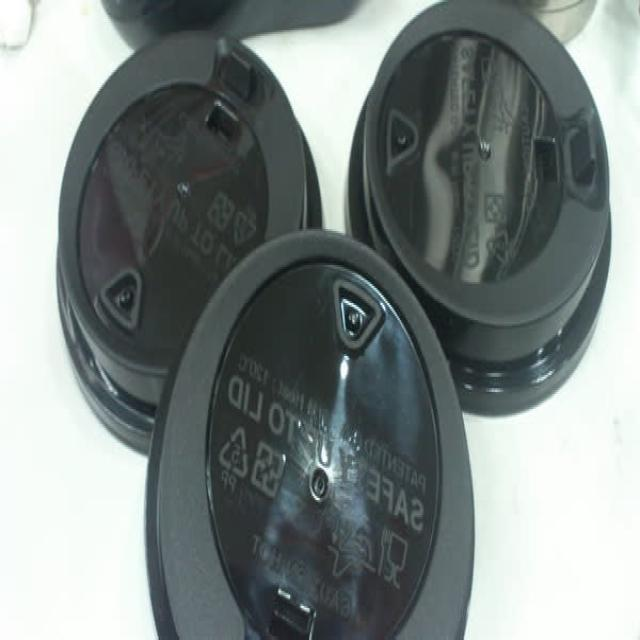plastic: (140, 235, 487, 640), (56, 32, 319, 446), (346, 0, 608, 411)
